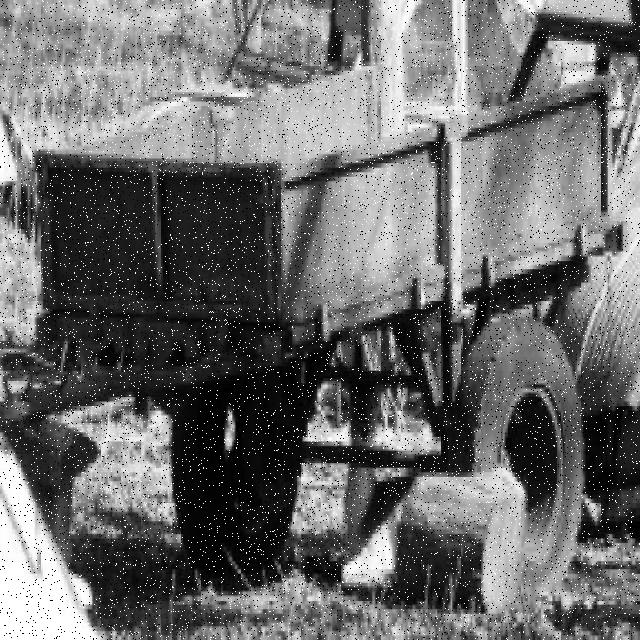Trailer: (0, 66, 634, 599)
